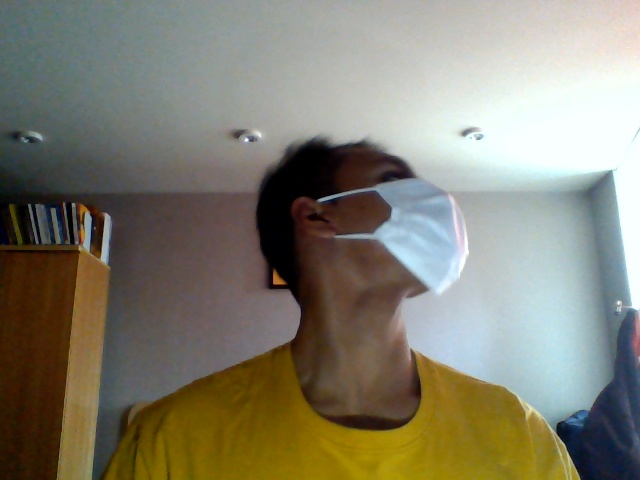mask: (374, 171, 472, 305)
